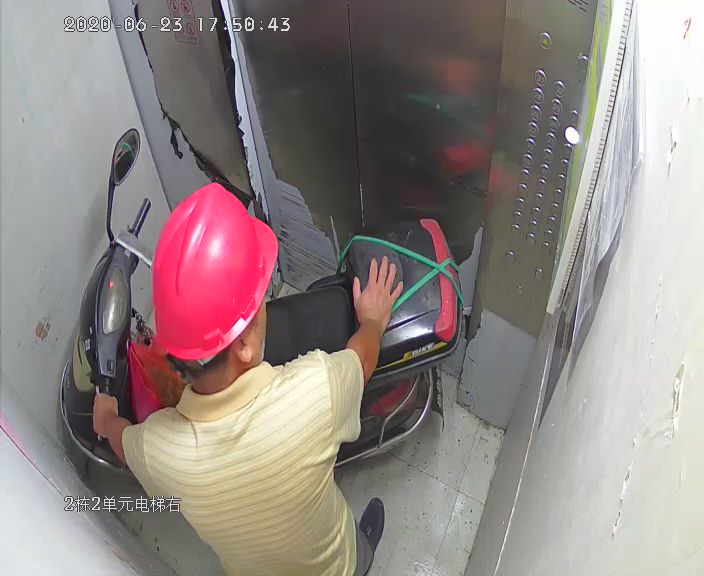Electric-bicycle: (59, 132, 451, 465)
